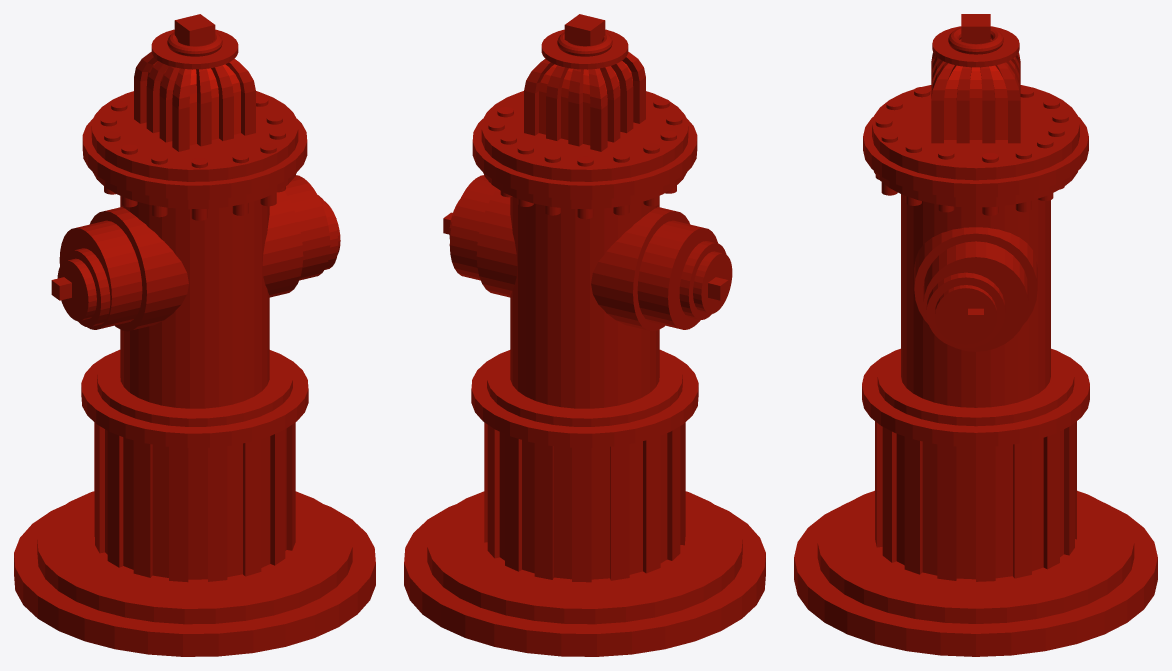
File: fire-hydrant-2.glb
3 views of the same model, side by side, from view 1: azimuth 30°, elevation 25°; view 2: azimuth 150°, elevation 25°; view 3: azimuth 270°, elevation 25° (orthographic).
Visible parts, largest first — view 1: Cylinder.002, Cylinder.005, Cylinder.001, Cylinder, Cube.002, Cylinder.015, Cylinder.006, Cylinder.003, Cylinder.004, Cylinder.014, Cylinder.008, Cylinder.007 (+7 smaller); view 2: Cylinder.002, Cylinder.005, Cylinder.001, Cylinder, Cube.002, Cylinder.015, Cylinder.006, Cylinder.003, Cylinder.004, Cylinder.014, Cylinder.008, Cylinder.007 (+6 smaller); view 3: Cylinder.002, Cylinder.001, Cylinder.005, Cylinder, Cylinder.015, Cube.002, Cylinder.003, Cylinder.004, Cylinder.014, Cylinder.007, Cylinder.006, Cylinder.011 (+5 smaller).
Part boxes in pixels (left/top/right/bottom): Cylinder.002: left=94, top=422, right=295, bottom=582; Cylinder.005: left=120, top=196, right=269, bottom=408; Cylinder.001: left=37, top=491, right=352, bottom=624; Cylinder: left=14, top=504, right=375, bottom=656; Cube.002: left=134, top=52, right=255, bottom=151; Cylinder.015: left=91, top=91, right=298, bottom=181; Cylinder.006: left=89, top=191, right=303, bottom=331; Cylinder.003: left=81, top=349, right=308, bottom=447; Cylinder.004: left=97, top=351, right=292, bottom=426; Cylinder.014: left=82, top=117, right=307, bottom=199; Cylinder.008: left=59, top=220, right=142, bottom=329; Cylinder.007: left=284, top=175, right=330, bottom=280; Cylinder.002: left=484, top=422, right=685, bottom=582; Cylinder.005: left=510, top=197, right=659, bottom=408; Cylinder.001: left=427, top=491, right=742, bottom=624; Cylinder: left=404, top=504, right=765, bottom=656; Cube.002: left=524, top=52, right=645, bottom=151; Cylinder.015: left=481, top=91, right=688, bottom=181; Cylinder.006: left=476, top=188, right=690, bottom=331; Cylinder.003: left=471, top=349, right=698, bottom=447; Cylinder.004: left=487, top=351, right=682, bottom=426; Cylinder.014: left=472, top=117, right=697, bottom=199; Cylinder.008: left=637, top=220, right=718, bottom=329; Cylinder.007: left=449, top=175, right=497, bottom=280; Cylinder.002: left=875, top=421, right=1076, bottom=581; Cylinder.001: left=817, top=490, right=1134, bottom=623; Cylinder.005: left=901, top=194, right=1050, bottom=407; Cylinder: left=794, top=503, right=1157, bottom=656; Cylinder.015: left=872, top=85, right=1079, bottom=180; Cube.002: left=931, top=53, right=1020, bottom=143; Cylinder.003: left=862, top=348, right=1089, bottom=447; Cylinder.004: left=877, top=349, right=1074, bottom=426; Cylinder.014: left=863, top=116, right=1088, bottom=198; Cylinder.007: left=923, top=241, right=1028, bottom=351; Cylinder.006: left=914, top=227, right=1037, bottom=324; Cylinder.011: left=935, top=285, right=996, bottom=344.
Bounding box in the file's own units: 0.4417 × 0.75 × 0.4417.
1 material, 1 textured.
